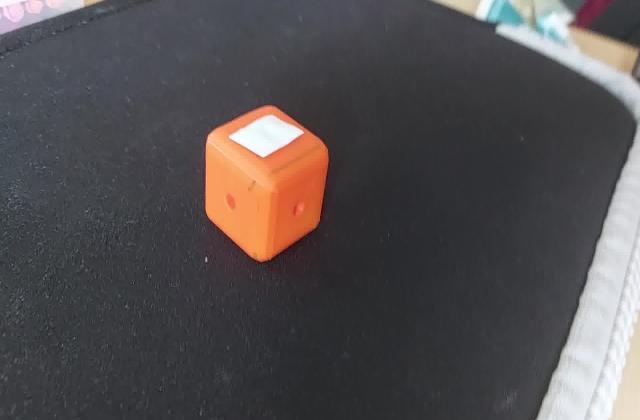cube: (202, 100, 333, 266)
white: (231, 122, 295, 162)
